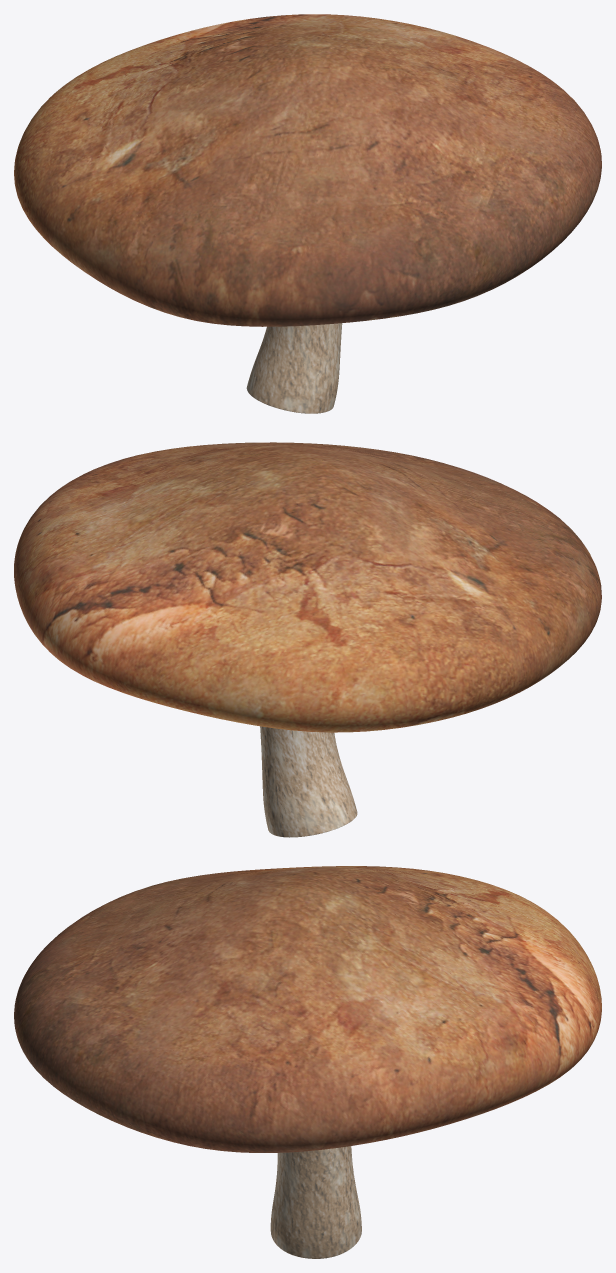
File: shroomEMBEDV1.fbx
3 renders of one model, top to bottom at view 1: azimuth 30°, elevation 25°; view 2: azimuth 150°, elevation 25°; view 3: azimuth 270°, elevation 25°, orthographic. The views are drawn at different scales.
Parts seen in each view (by area): view 1: 10192_MushroomShitake_v1-L3.003; view 2: 10192_MushroomShitake_v1-L3.003; view 3: 10192_MushroomShitake_v1-L3.003.
Part boxes in pixels (x1,y1,x2,y2): 10192_MushroomShitake_v1-L3.003: (14,14,601,413); 10192_MushroomShitake_v1-L3.003: (14,442,601,837); 10192_MushroomShitake_v1-L3.003: (14,866,601,1258).
Bounding box in the file's own units: 554 × 367 × 546.
Materials: 1 (1 with a texture image).
